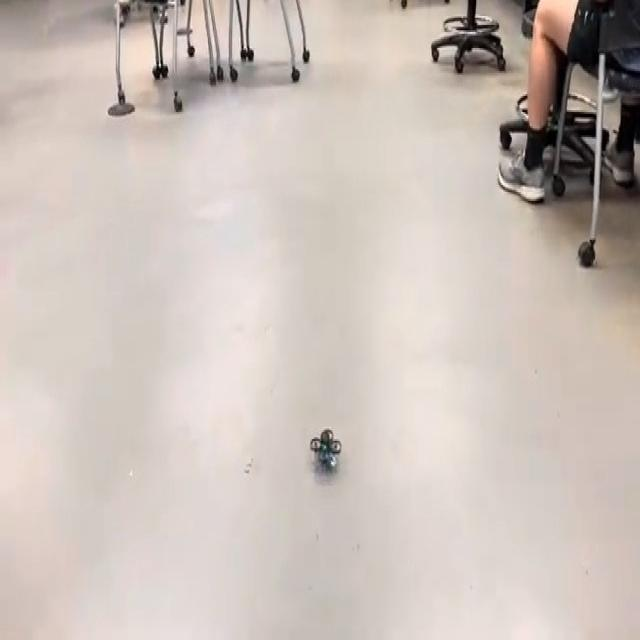drone: (300, 405, 351, 492)
